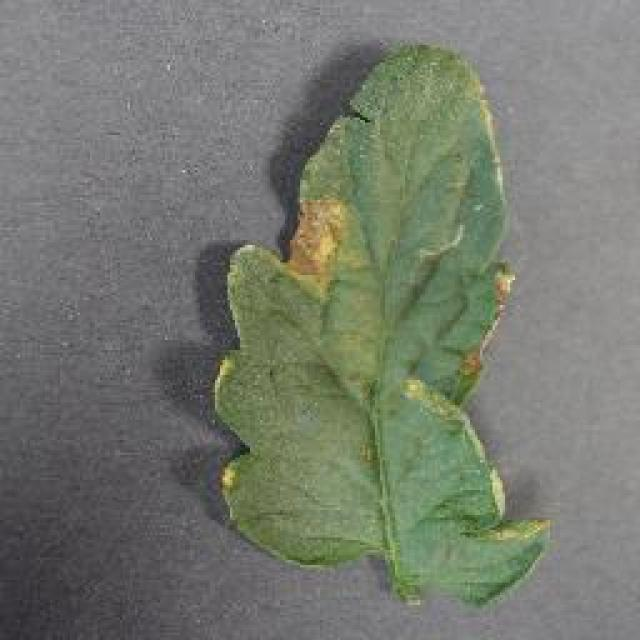Tomato bacterial spot leaf: (210, 41, 558, 608)
